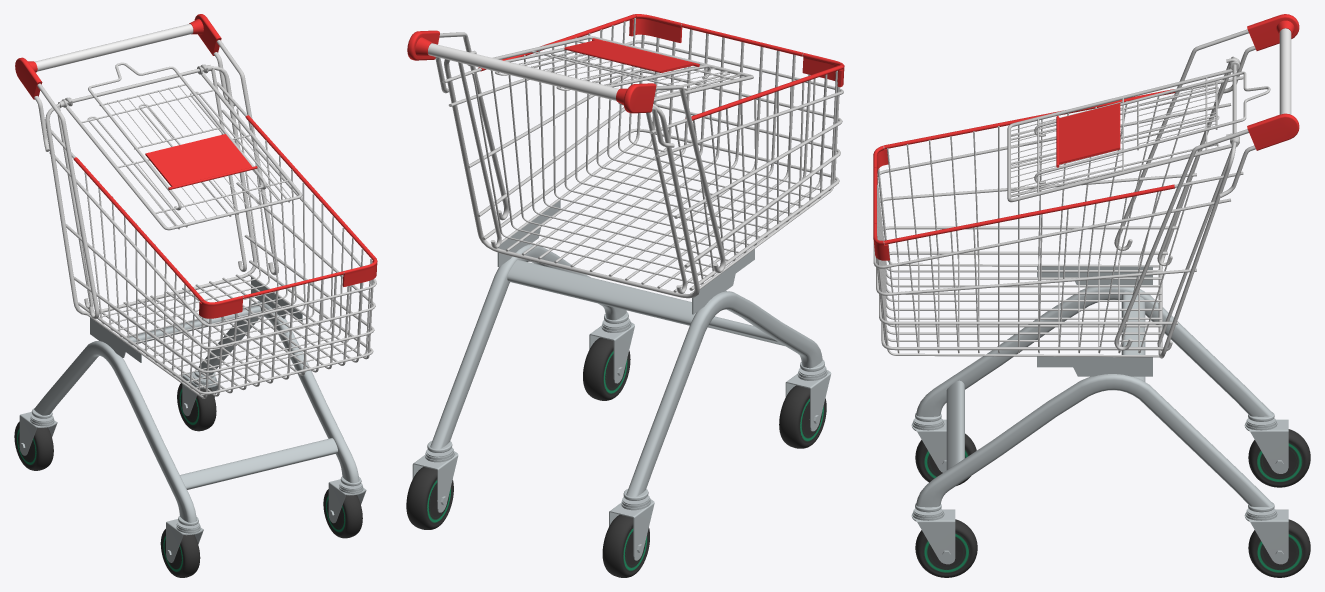
The model's file is Carrito.fbx.
3 views of the same model, side by side, from view 1: azimuth 30°, elevation 25°; view 2: azimuth 150°, elevation 25°; view 3: azimuth 270°, elevation 25° (orthographic). The views are drawn at different scales.
Visible parts, largest first — view 1: polySurface94.008; view 2: polySurface94.008; view 3: polySurface94.008.
Part boxes in pixels (bbox=[...]): polySurface94.008: bbox=[14, 14, 377, 577]; polySurface94.008: bbox=[406, 14, 844, 577]; polySurface94.008: bbox=[873, 14, 1310, 577].
Bounding box in the file's own units: 51.41 × 105 × 89.65.
Materials: 1 (1 with a texture image).
